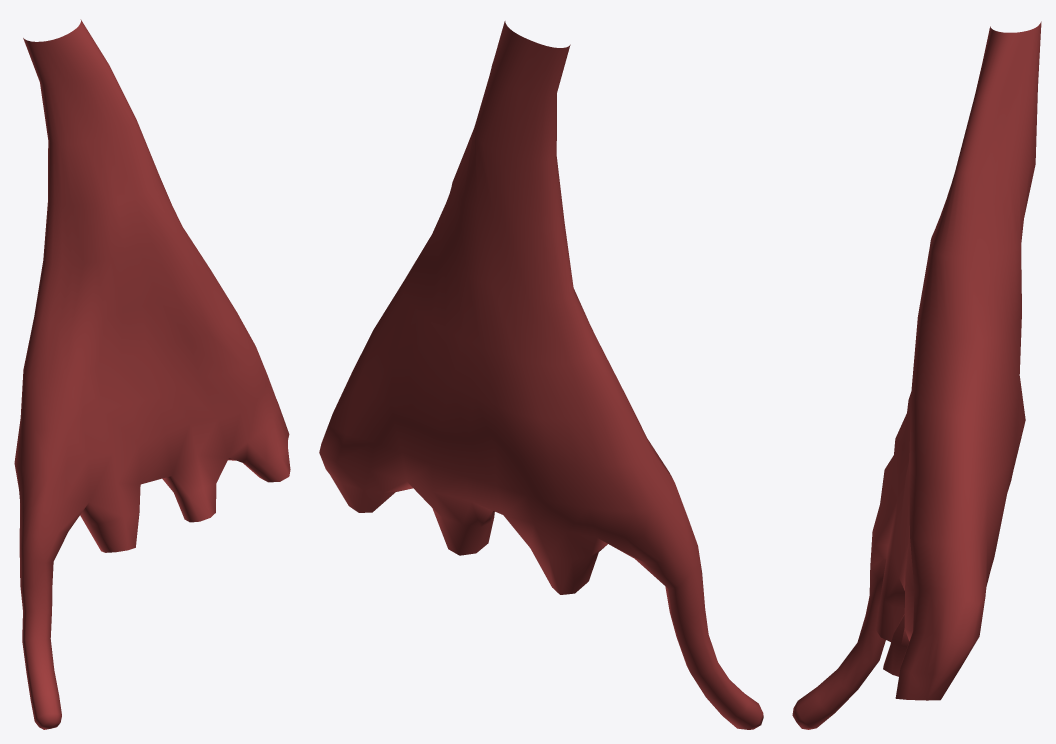
File: common-flexor-tendon-sheath-l.glb
The picture shows the model from 3 angles, left to right: view 1: azimuth 30°, elevation 25°; view 2: azimuth 150°, elevation 25°; view 3: azimuth 270°, elevation 25°; orthographic projection. The views are drawn at different scales.
Visible parts, largest first — view 1: Common flexor tendon sheath.l; view 2: Common flexor tendon sheath.l; view 3: Common flexor tendon sheath.l.
Part boxes in pixels (box(x1,y1,x2,y2)): Common flexor tendon sheath.l: box(14, 19, 290, 729); Common flexor tendon sheath.l: box(319, 21, 763, 729); Common flexor tendon sheath.l: box(792, 21, 1041, 729).
Bounding box in the file's own units: 0.0622 × 0.1215 × 0.0359.
